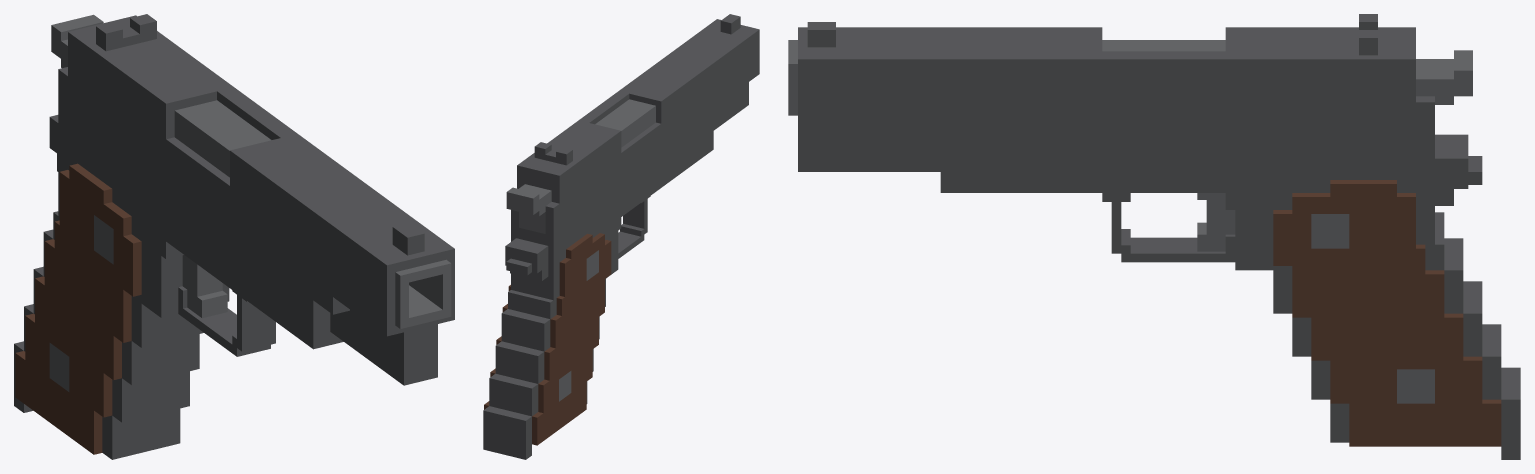
The model's file is pistol.fbx.
3 views of the same model, side by side, from view 1: azimuth 30°, elevation 25°; view 2: azimuth 150°, elevation 25°; view 3: azimuth 270°, elevation 25° (orthographic). The views are drawn at different scales.
Visible parts, largest first — view 1: pistol_base, pistol_slider, pistol_trigger, pistol_hammer; view 2: pistol_base, pistol_slider, pistol_hammer; view 3: pistol_base, pistol_slider, pistol_hammer, pistol_trigger.
Boxes of the visible parts, <box> form: pistol_base: <box>14,100,451,459</box>; pistol_slider: <box>58,14,454,385</box>; pistol_trigger: <box>182,255,227,318</box>; pistol_hammer: <box>51,14,103,68</box>; pistol_base: <box>483,99,713,459</box>; pistol_slider: <box>511,14,759,235</box>; pistol_hammer: <box>506,184,551,233</box>; pistol_base: <box>788,40,1520,459</box>; pistol_slider: <box>798,14,1434,171</box>; pistol_hammer: <box>1416,50,1472,104</box>; pistol_trigger: <box>1197,193,1235,251</box>.
Size of the model in its own units: 6 by 29.1 by 46.2.
